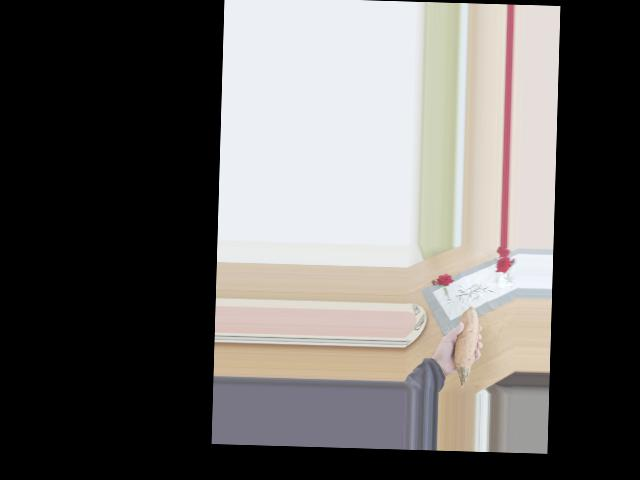sweet_potato: (446, 303, 482, 381)
